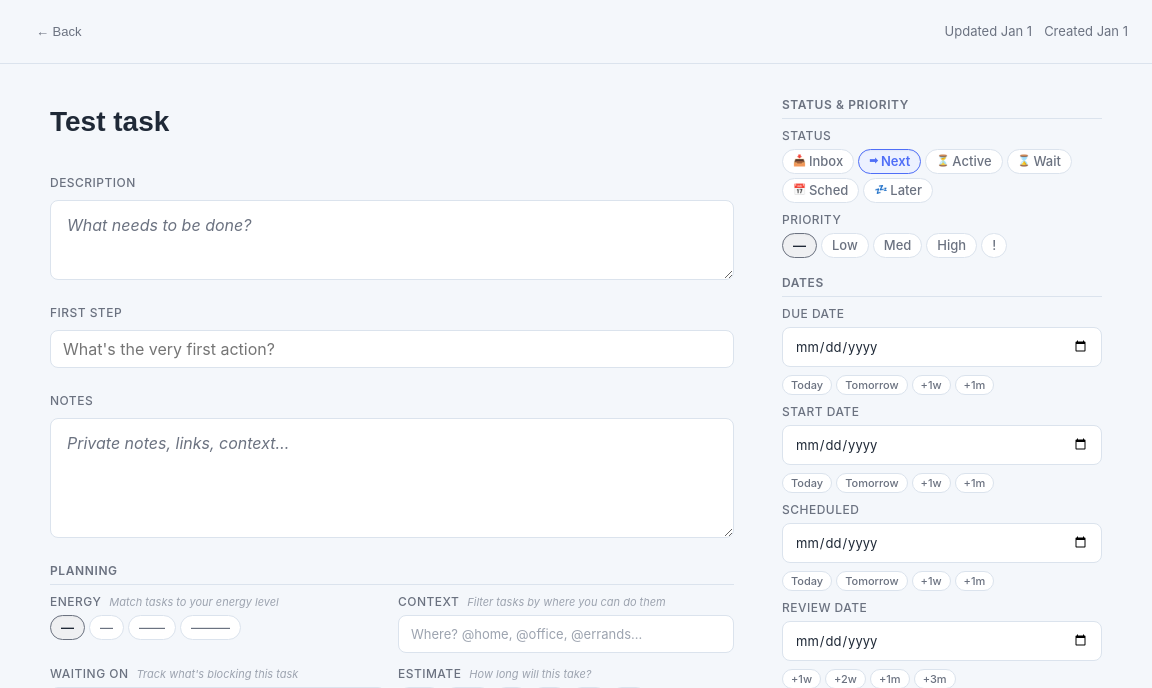
TaskFullPage › shows error status when save fails
Replace the text in the field with placeholder "Task title" with "New title": [392, 123] box [50,96,734,150]
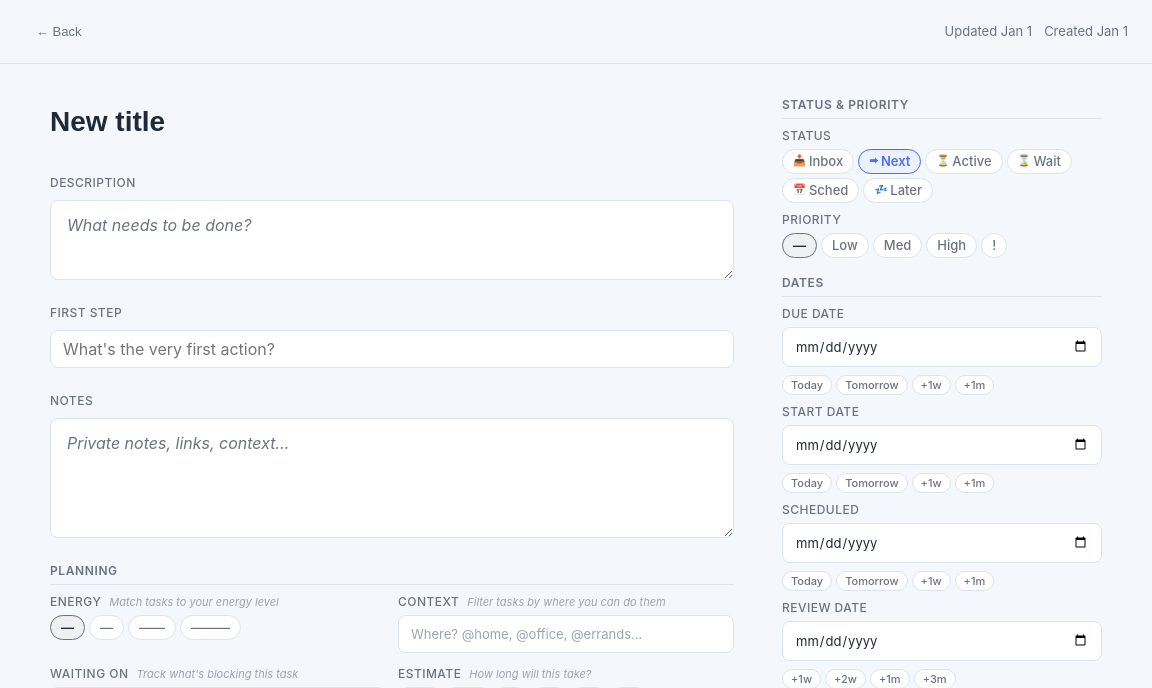
Leave the field with placeholder "Task title", box [50,96,734,150]
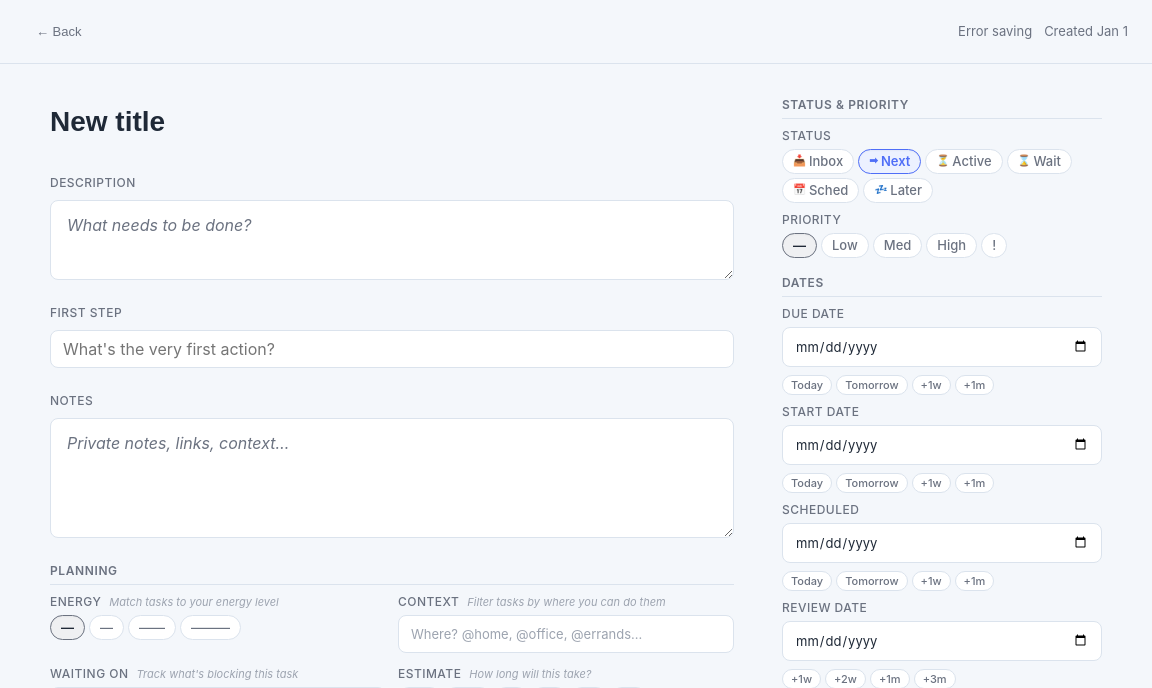
Check: the text "Error saving" is shown, box [958,22,1032,41]
